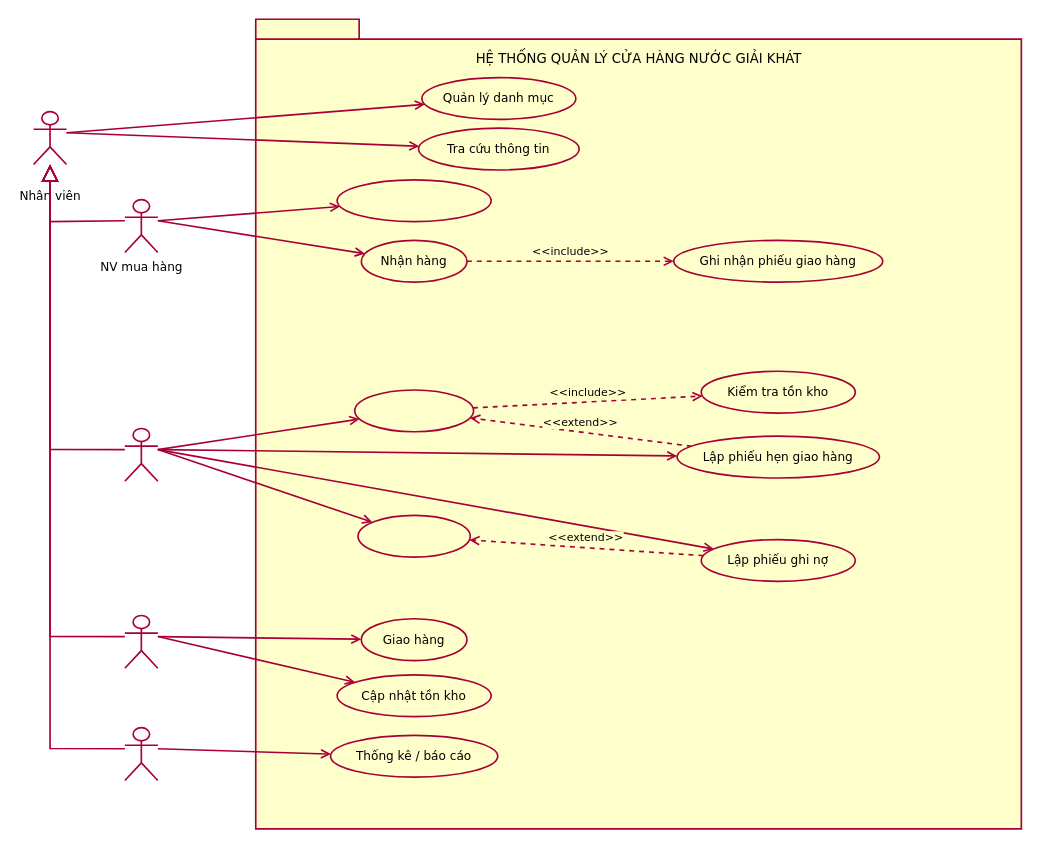
The diagram is 1041 pixels wide and 849 high, and some of its shapes have lost their labels. The centre of each missing label's shape, as x and y in pixels:
Lập hóa đơn: point (413, 410)
Lập đơn đặt hàng: point (413, 200)
NV bán hàng: point (141, 454)
NV kho: point (141, 641)
Quản lý: point (141, 753)
Thanh toán: point (414, 535)
